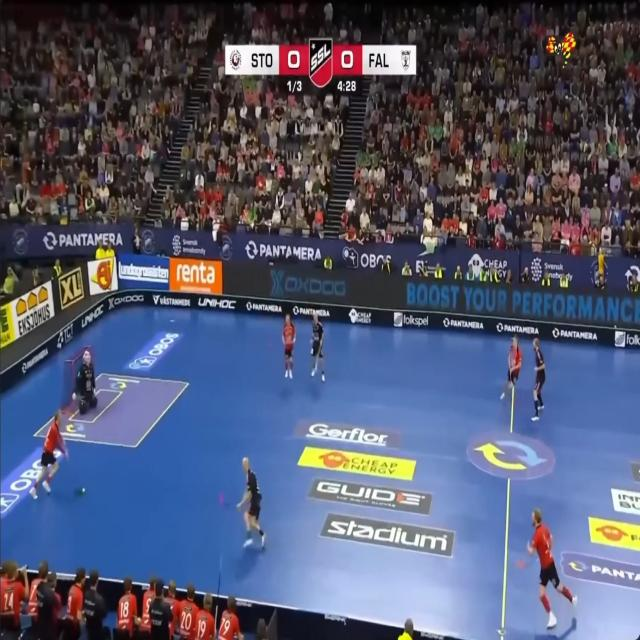Balls: (80, 488, 85, 494)
player: (527, 509, 576, 628), (30, 412, 67, 499), (237, 457, 265, 548), (72, 350, 97, 414), (501, 336, 522, 399), (531, 338, 545, 421), (217, 596, 243, 639), (311, 312, 325, 382), (282, 314, 295, 378)
